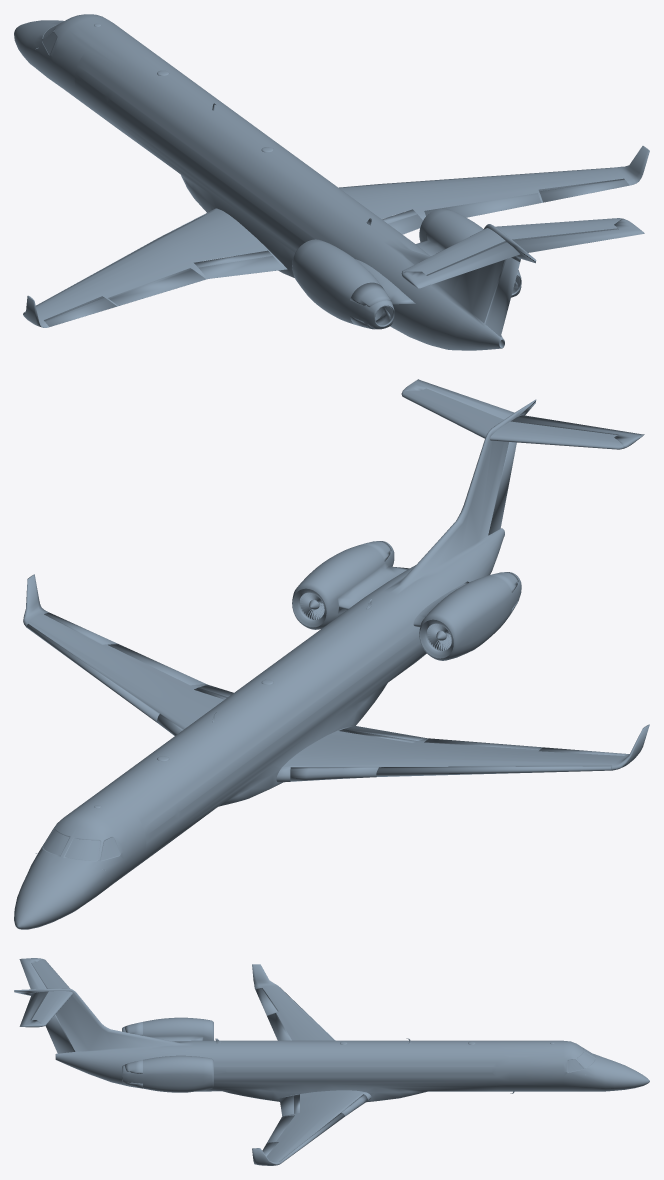
Rendered from ERJ145.glb.
The picture shows the model from 3 angles, top to bottom: view 1: azimuth 30°, elevation 25°; view 2: azimuth 150°, elevation 25°; view 3: azimuth 270°, elevation 25°; orthographic projection. The views are drawn at different scales.
Size of the model in its own units: 20.45 by 5.73 by 29.78.
